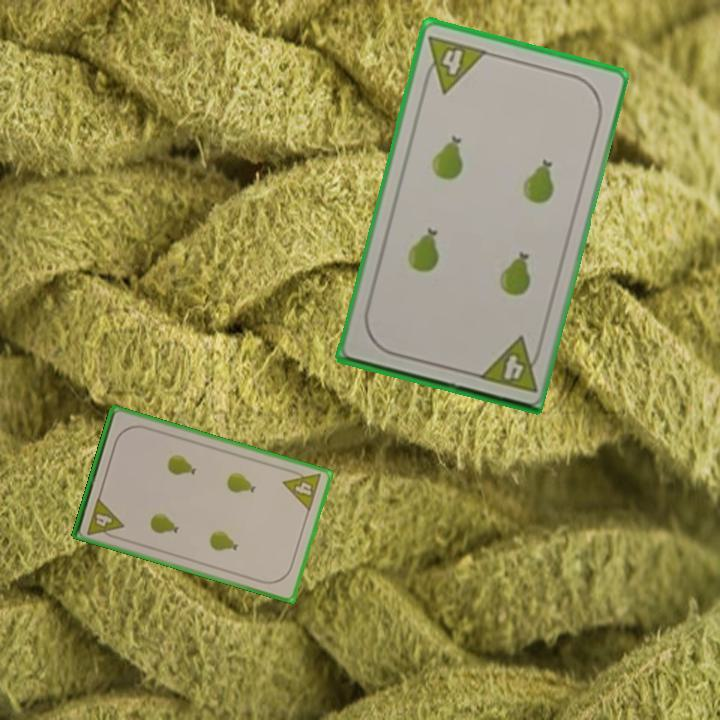4p: (418, 31, 489, 96), (474, 333, 545, 396), (279, 465, 324, 514), (83, 494, 126, 542)
